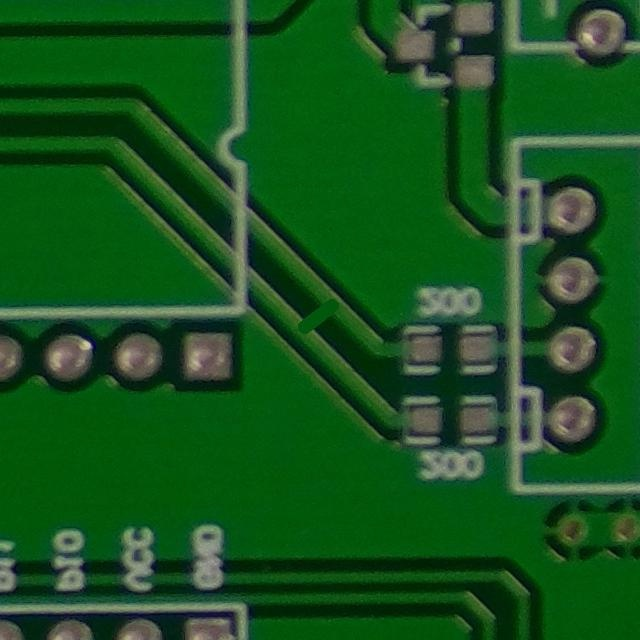short: (277, 285, 363, 355)
